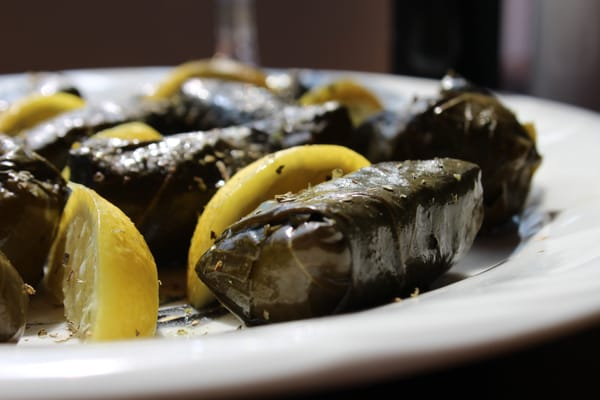pasta: (189, 155, 486, 325), (186, 143, 376, 304)
